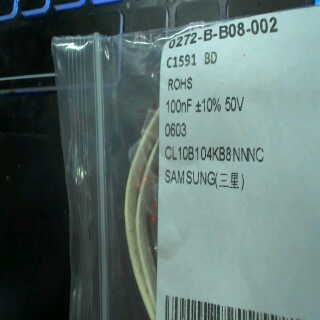100nF: (164, 93, 193, 118)
